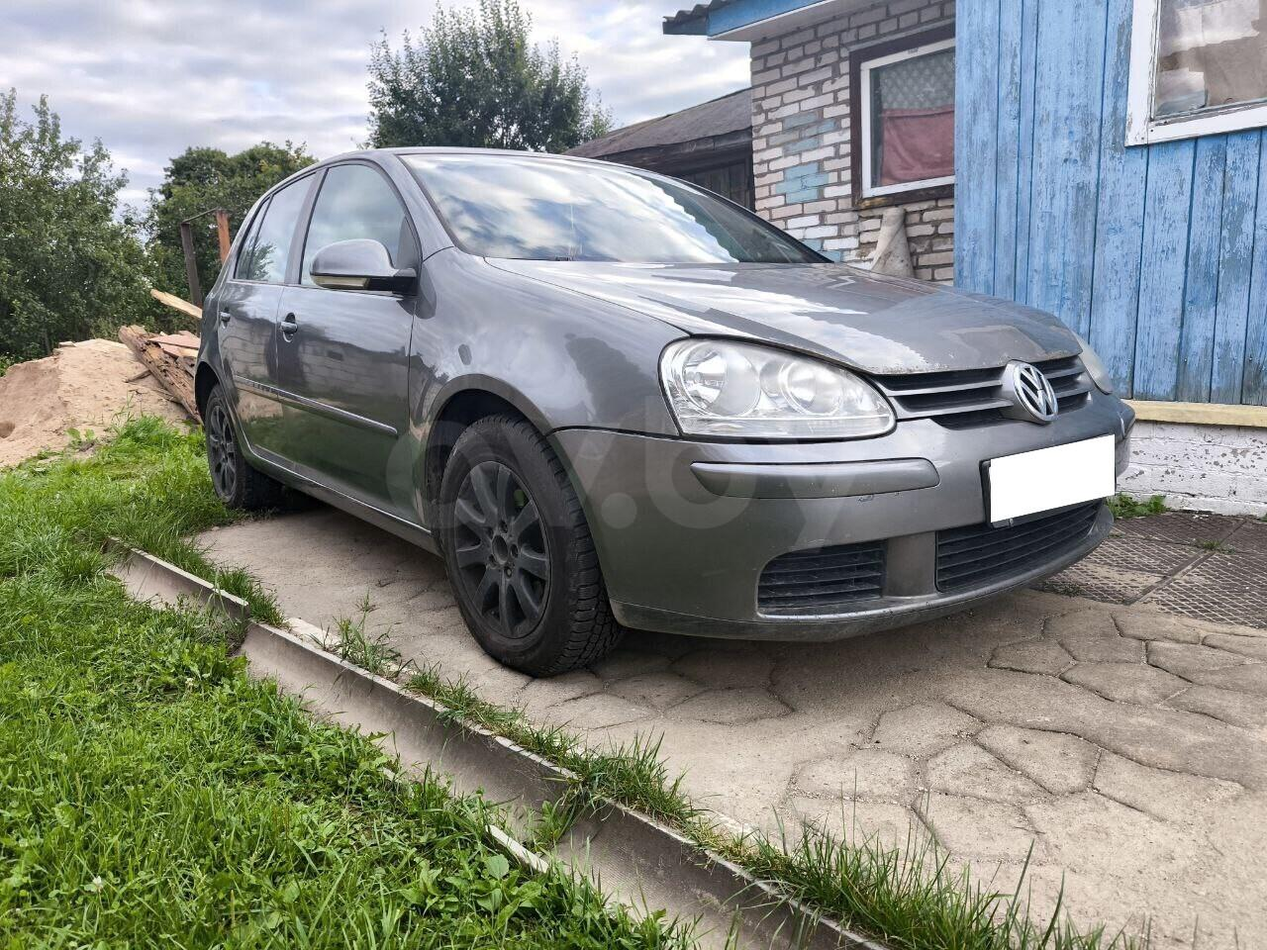Golf_2003-2009: (191, 142, 1131, 679)
